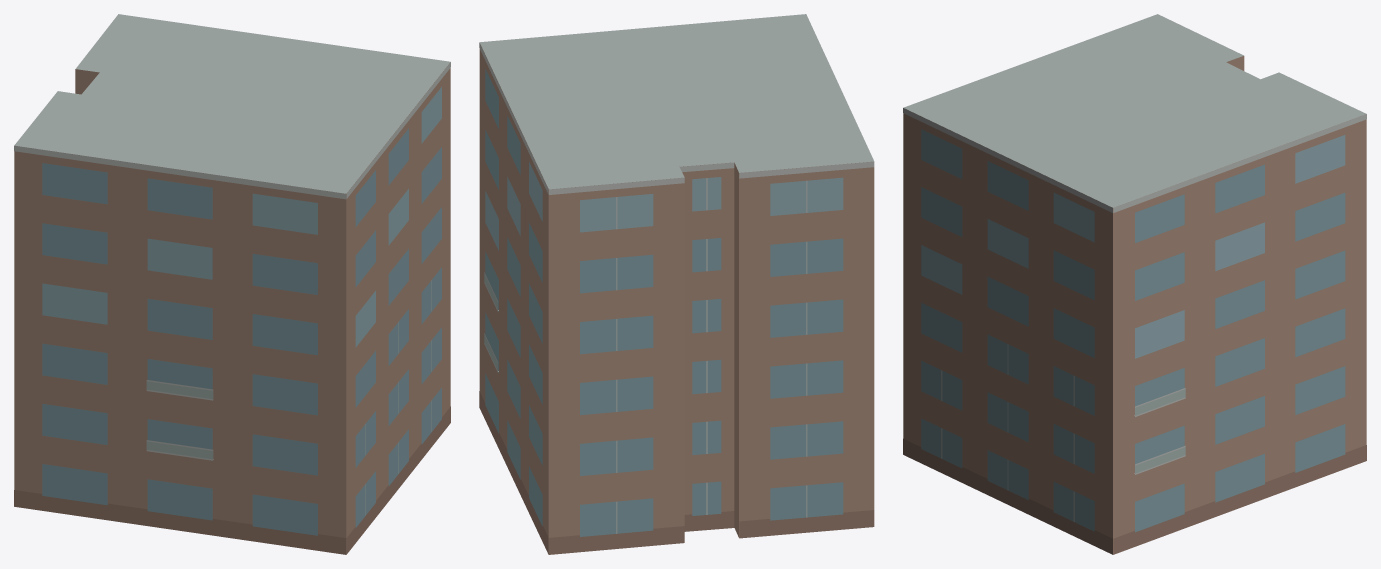
The model's file is survey-upis-33004385.glb.
3 views of the same model, side by side, from view 1: azimuth 30°, elevation 25°; view 2: azimuth 150°, elevation 25°; view 3: azimuth 270°, elevation 25° (orthographic). The views are drawn at different scales.
Visible parts, largest first — view 1: survey-upis-33004385.tmp; view 2: survey-upis-33004385.tmp; view 3: survey-upis-33004385.tmp.
Boxes of the visible parts, x1,y1,x2,y2 form: survey-upis-33004385.tmp: [14, 14, 450, 554]; survey-upis-33004385.tmp: [479, 14, 874, 554]; survey-upis-33004385.tmp: [903, 14, 1366, 554].
Size of the model in its own units: 18.82 by 15.7 by 19.02.
